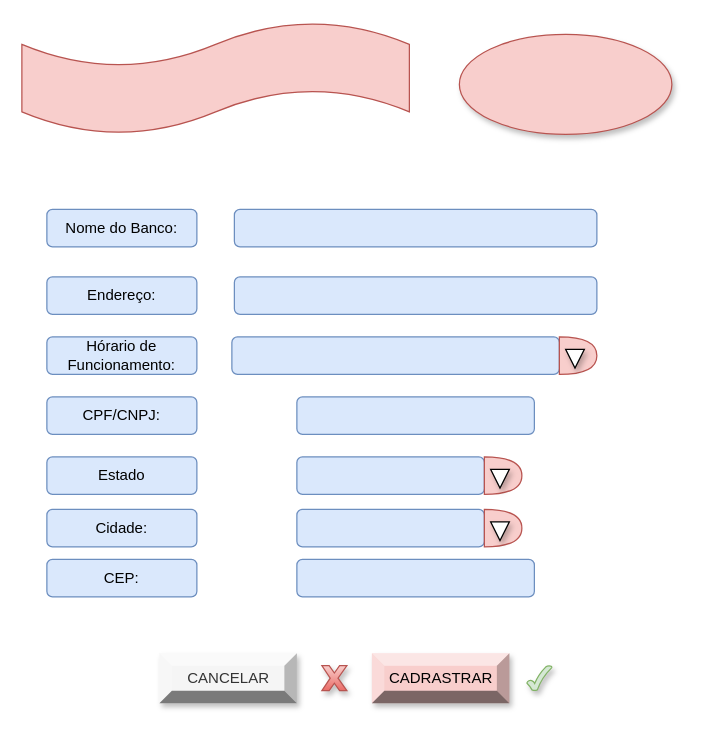
The diagram is 701 pixels wide and 734 high, and some of its shapes have lost their labels. The centre of each missing label's shape, as x and y in pixels:
"A&H Softwares" goes at (x=215, y=77).
"Cadrastrar Banco" goes at (x=566, y=85).
